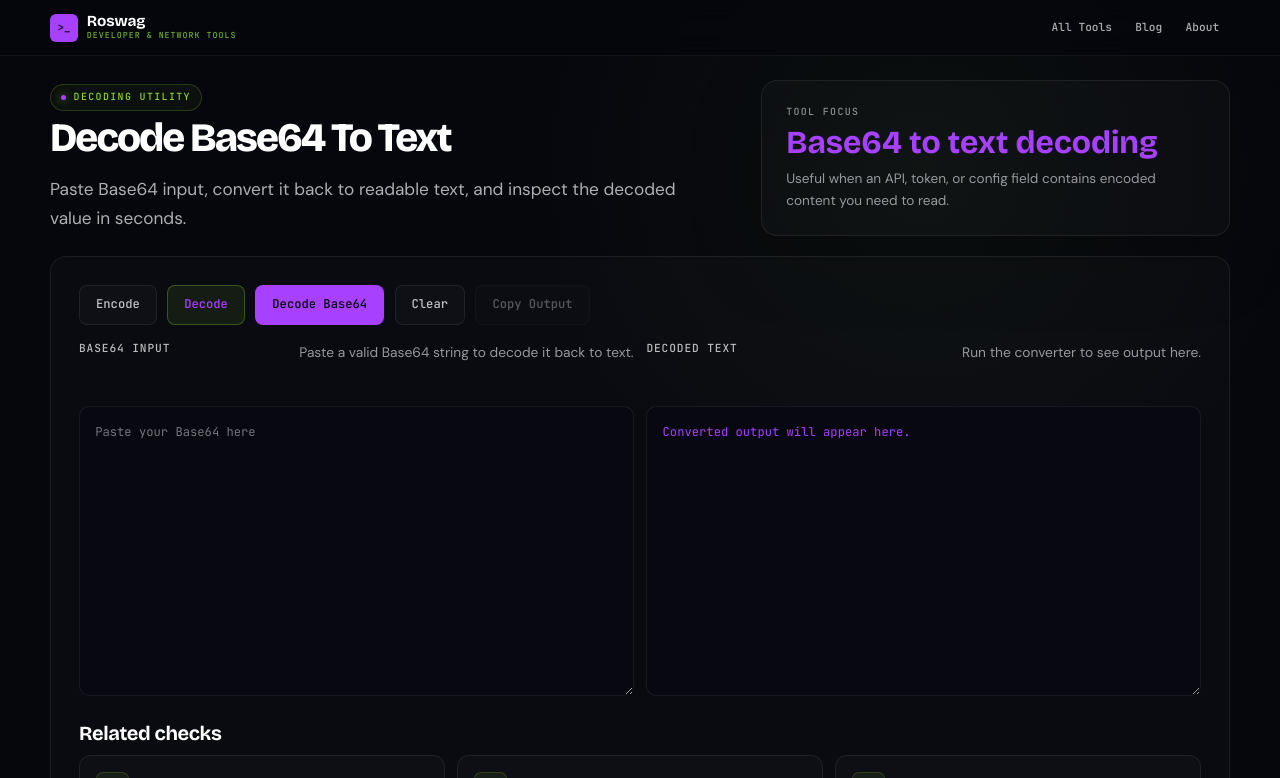
Base64Page › shows a backend validation error for invalid Base64 input
Type "***bad***" into the text box named "Base64 input" at (356, 551), box [79,406,634,696]
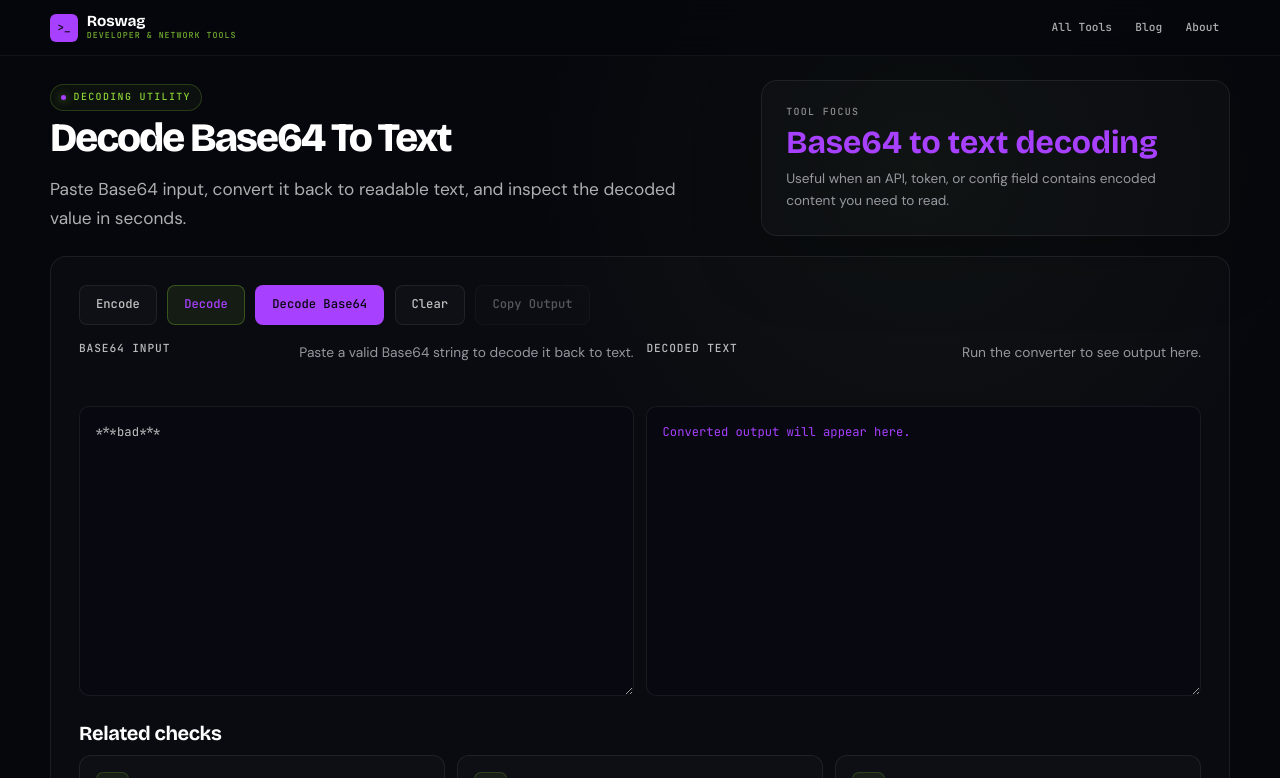
Click the button "Decode Base64" at (320, 304), box [255,284,384,324]
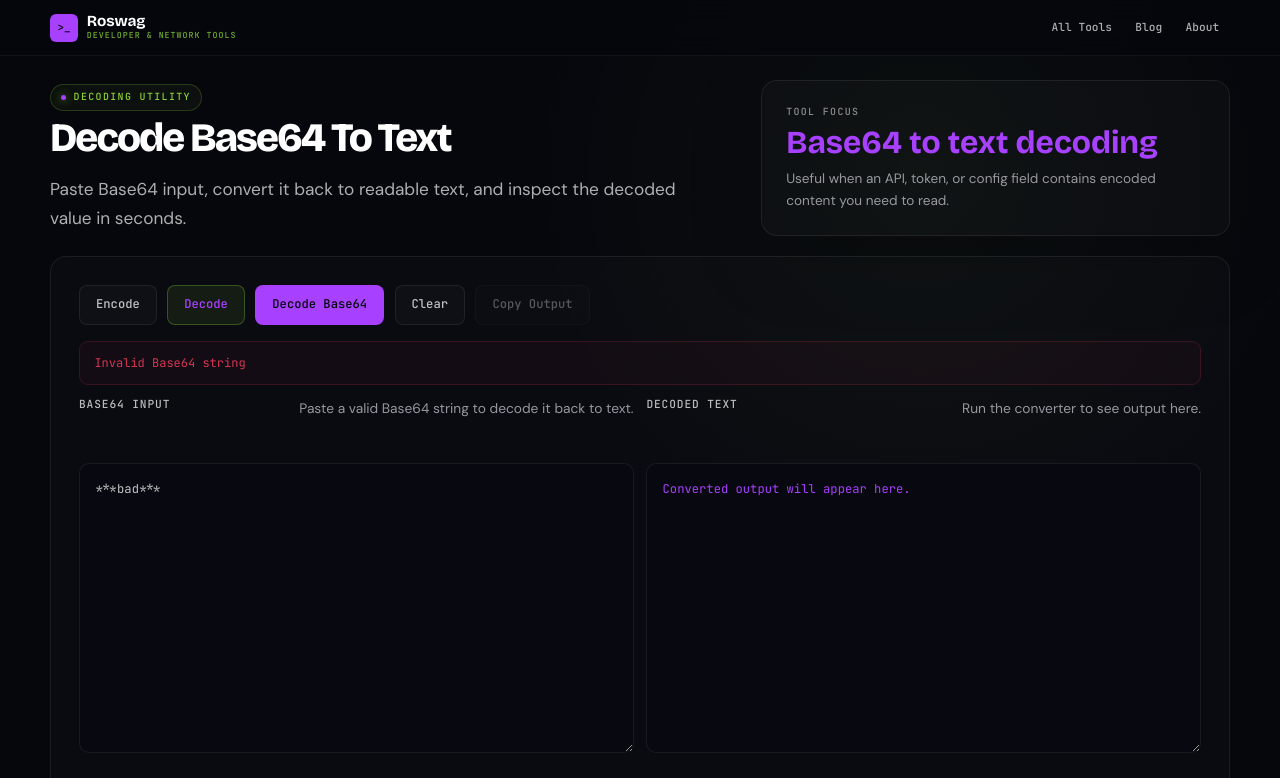
Check: the text "Invalid Base64 string" is shown, box [79,340,1201,385]
